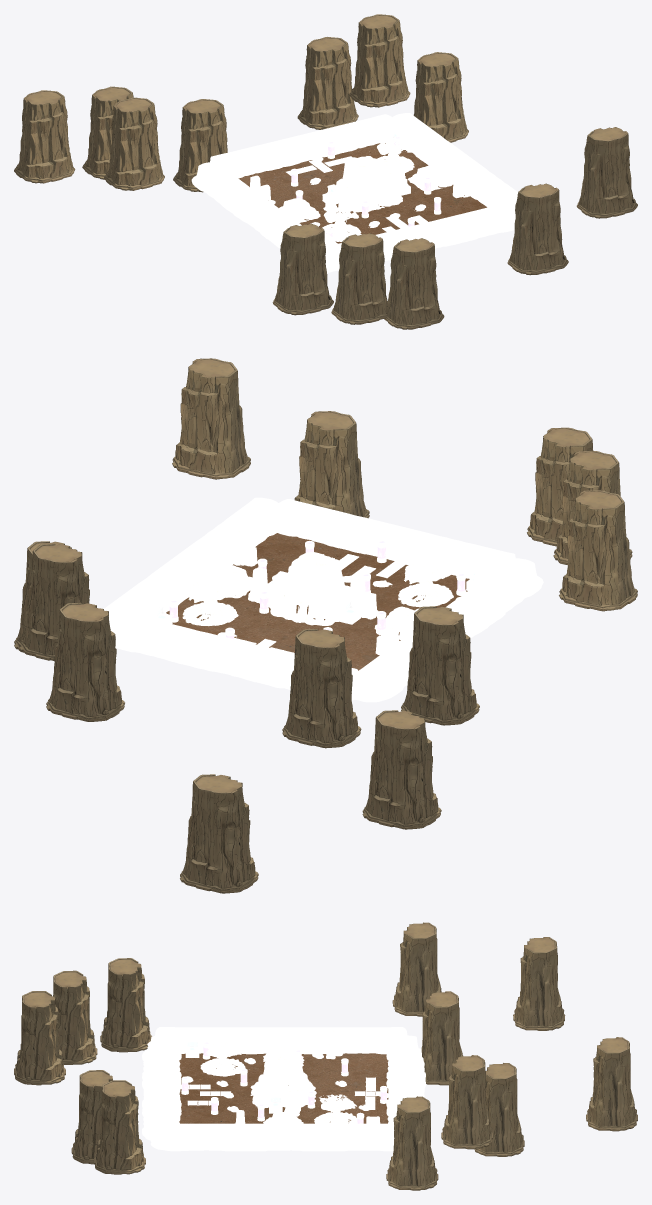
Rendered from harvest_map.glb.
3 renders of one model, top to bottom at view 1: azimuth 30°, elevation 25°; view 2: azimuth 150°, elevation 25°; view 3: azimuth 270°, elevation 25°, orthographic. The views are drawn at different scales.
Parts seen in each view (by area): view 1: Floor, mesh_node_42, model_LOD0_2, model_LOD0_1_1, model_LOD0, model_LOD0_4, model_LOD0_5, model_LOD0_1_2, model_LOD0_3_1, model_LOD0_4_1, model_LOD0_2_1, mesh_node_45 (+10 smaller); view 2: Floor, mesh_node_43, model_LOD0_5, model_LOD0_3_1, model_LOD0_6, model_LOD0_1_1, model_LOD0_4, model_LOD0_1, model_LOD0, mesh_node_42, mesh_node_44, mesh_node_45 (+9 smaller); view 3: Floor, mesh_node_44, mesh_node_45, model_LOD0_4_1, model_LOD0_5, model_LOD0_3_1, model_LOD0_6, model_LOD0_2, model_LOD0_3, model_LOD0_1_1, mesh_node_43, model_LOD0 (+8 smaller).
Part boxes in pixels (x1=…): Floor: x1=238, y1=143, x2=486, y2=243; mesh_node_42: x1=210, y1=114, x2=396, y2=178; model_LOD0_2: x1=349, y1=14, x2=410, y2=107; model_LOD0_1_1: x1=14, y1=90, x2=75, y2=183; model_LOD0: x1=104, y1=97, x2=164, y2=190; model_LOD0_4: x1=297, y1=37, x2=358, y2=129; model_LOD0_5: x1=576, y1=127, x2=637, y2=218; model_LOD0_1_2: x1=507, y1=183, x2=568, y2=275; model_LOD0_3_1: x1=272, y1=223, x2=333, y2=315; model_LOD0_4_1: x1=384, y1=238, x2=444, y2=329; model_LOD0_2_1: x1=331, y1=233, x2=388, y2=324; mesh_node_45: x1=191, y1=162, x2=338, y2=272; Floor: x1=166, y1=533, x2=469, y2=670; mesh_node_43: x1=273, y1=499, x2=515, y2=578; model_LOD0_5: x1=172, y1=358, x2=250, y2=479; model_LOD0_3_1: x1=559, y1=490, x2=637, y2=611; model_LOD0_6: x1=180, y1=774, x2=258, y2=893; model_LOD0_1_1: x1=362, y1=710, x2=441, y2=829; model_LOD0_4: x1=46, y1=602, x2=124, y2=721; model_LOD0_1: x1=282, y1=629, x2=361, y2=748; model_LOD0: x1=401, y1=606, x2=479, y2=725; mesh_node_42: x1=115, y1=614, x2=357, y2=700; mesh_node_44: x1=104, y1=497, x2=277, y2=634; mesh_node_45: x1=355, y1=558, x2=543, y2=702; Floor: x1=179, y1=1053, x2=388, y2=1123; mesh_node_44: x1=150, y1=1123, x2=394, y2=1151; mesh_node_45: x1=147, y1=1027, x2=407, y2=1054; model_LOD0_4_1: x1=14, y1=991, x2=65, y2=1085; model_LOD0_5: x1=94, y1=1080, x2=145, y2=1174; model_LOD0_3_1: x1=100, y1=958, x2=151, y2=1052; model_LOD0_6: x1=586, y1=1037, x2=637, y2=1131; model_LOD0_2: x1=441, y1=1055, x2=493, y2=1149; model_LOD0_3: x1=386, y1=1096, x2=438, y2=1190; model_LOD0_1_1: x1=513, y1=937, x2=565, y2=1030; mesh_node_43: x1=142, y1=1035, x2=181, y2=1140; model_LOD0: x1=392, y1=922, x2=441, y2=1016.
Size of the model in its own units: 87.62 by 31.47 by 116.
9 materials, 9 textured.
